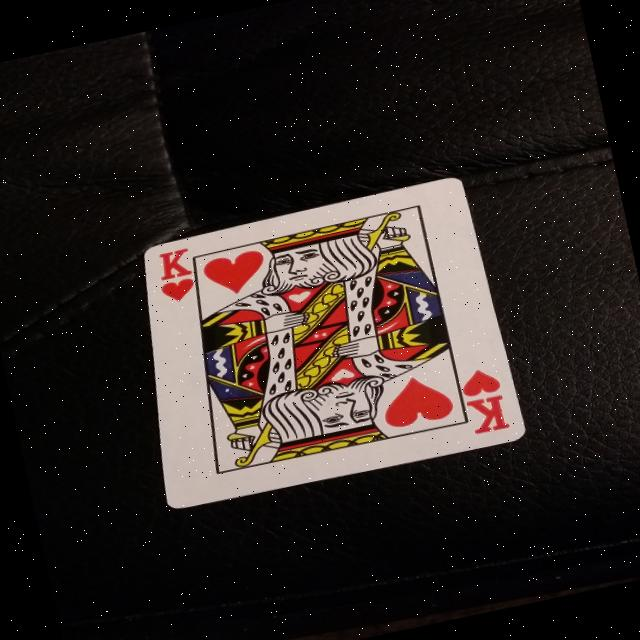Kh: (439, 356, 524, 445), (143, 234, 216, 312)
